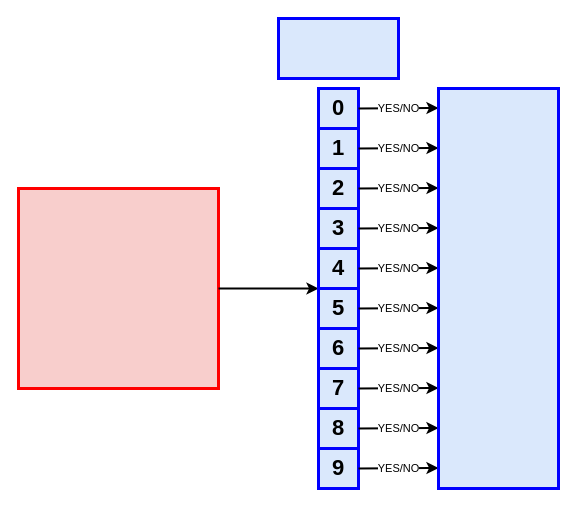
Some shapes in this 577 by 507 pixel diagram are drawn without their labels. The centre of each missing label's shape, as x and y in pixels:
"Convolutional + Pooling Layers" goes at (118,288).
"Final Output" goes at (498,288).
"Softmax Layer" goes at (338,48).
